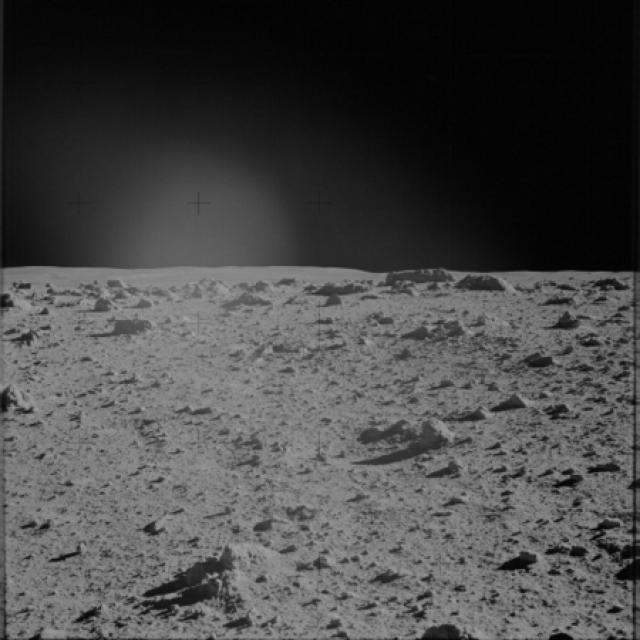rock: (201, 532, 299, 611), (403, 306, 469, 348), (411, 613, 505, 639), (160, 273, 228, 306), (0, 378, 35, 428), (406, 419, 453, 452), (448, 270, 506, 296), (313, 277, 369, 303), (110, 312, 159, 340), (226, 290, 274, 316), (492, 386, 532, 417), (520, 342, 556, 374), (471, 307, 512, 333), (18, 322, 52, 351), (591, 273, 633, 296), (85, 291, 121, 317), (544, 287, 586, 309), (552, 310, 584, 334), (0, 290, 33, 313)
